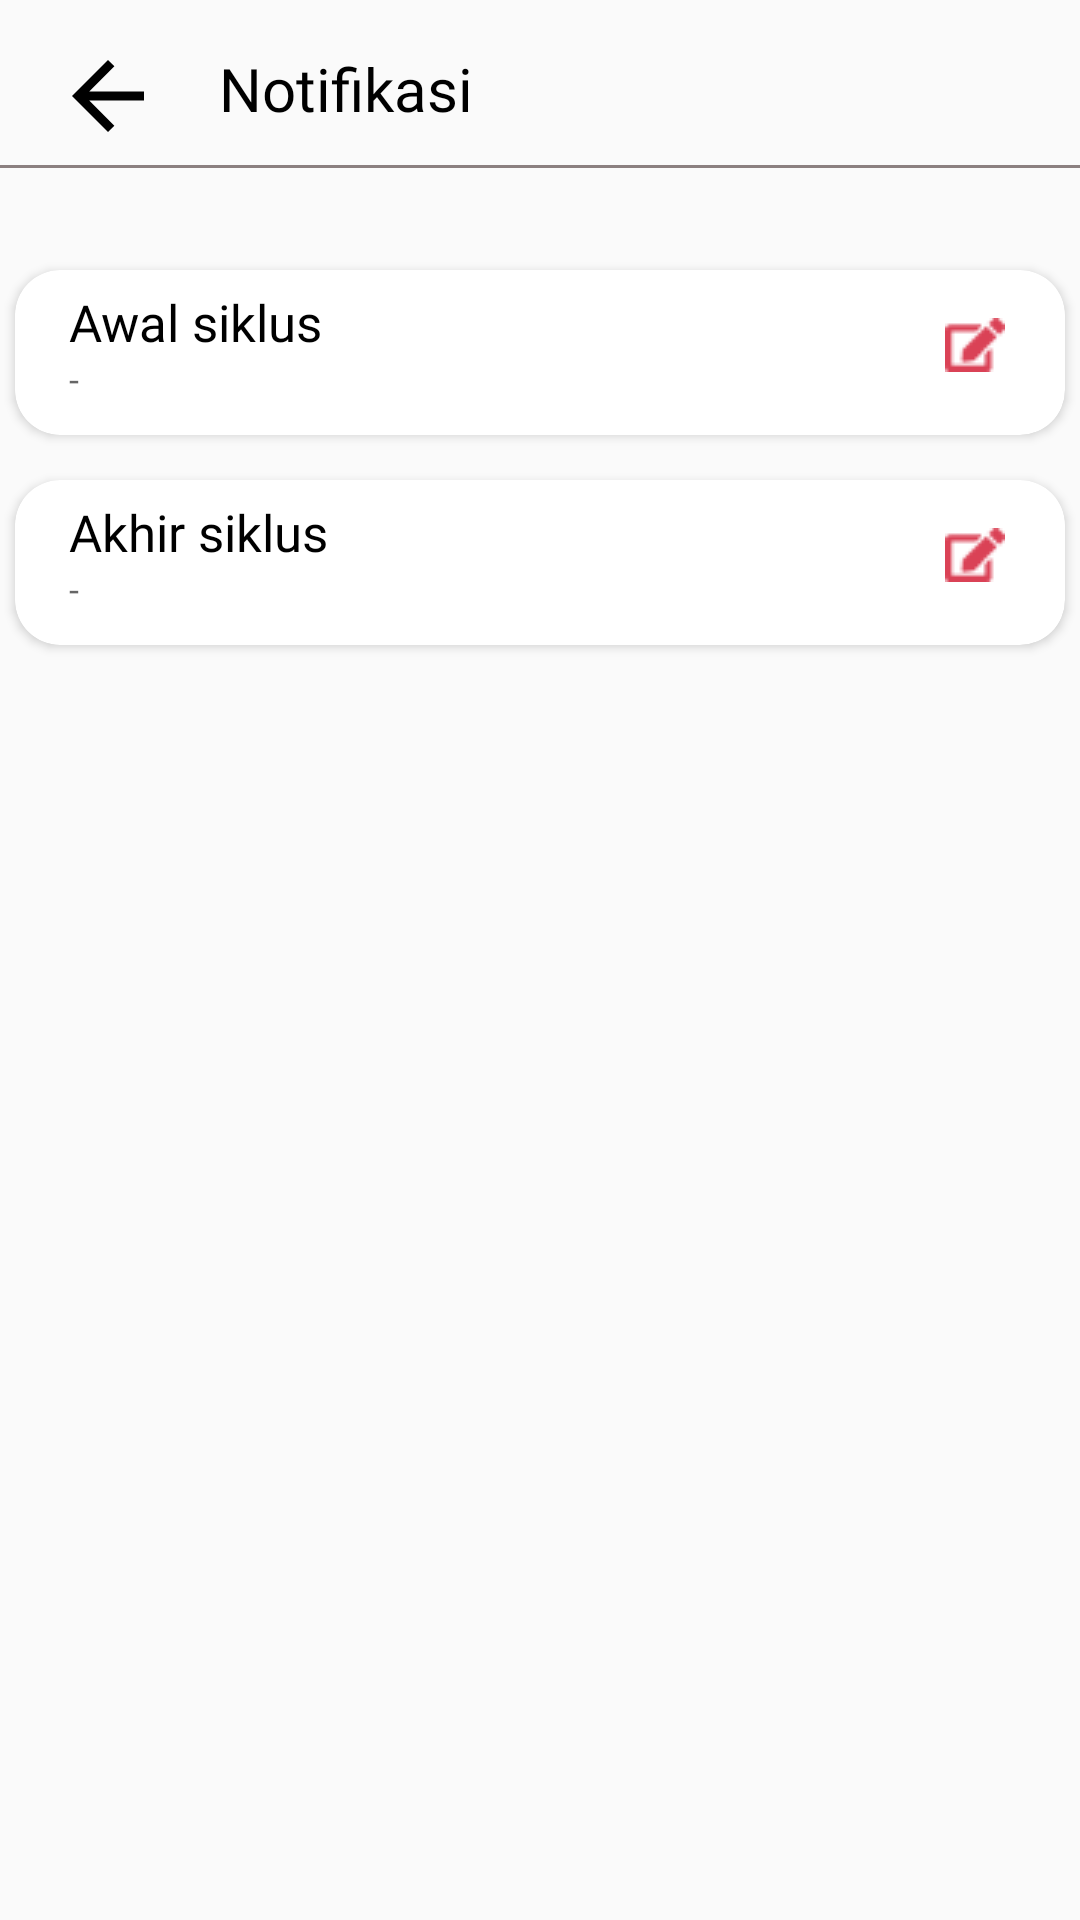

Icon bounding boxes for this 1080x1920 phone screenshot, format {"left": x1, "top": y1, "right": x2, "bottom": y2}:
back: {"left": 72, "top": 60, "right": 144, "bottom": 132}
edit: {"left": 945, "top": 318, "right": 1005, "bottom": 372}, {"left": 945, "top": 528, "right": 1005, "bottom": 582}
